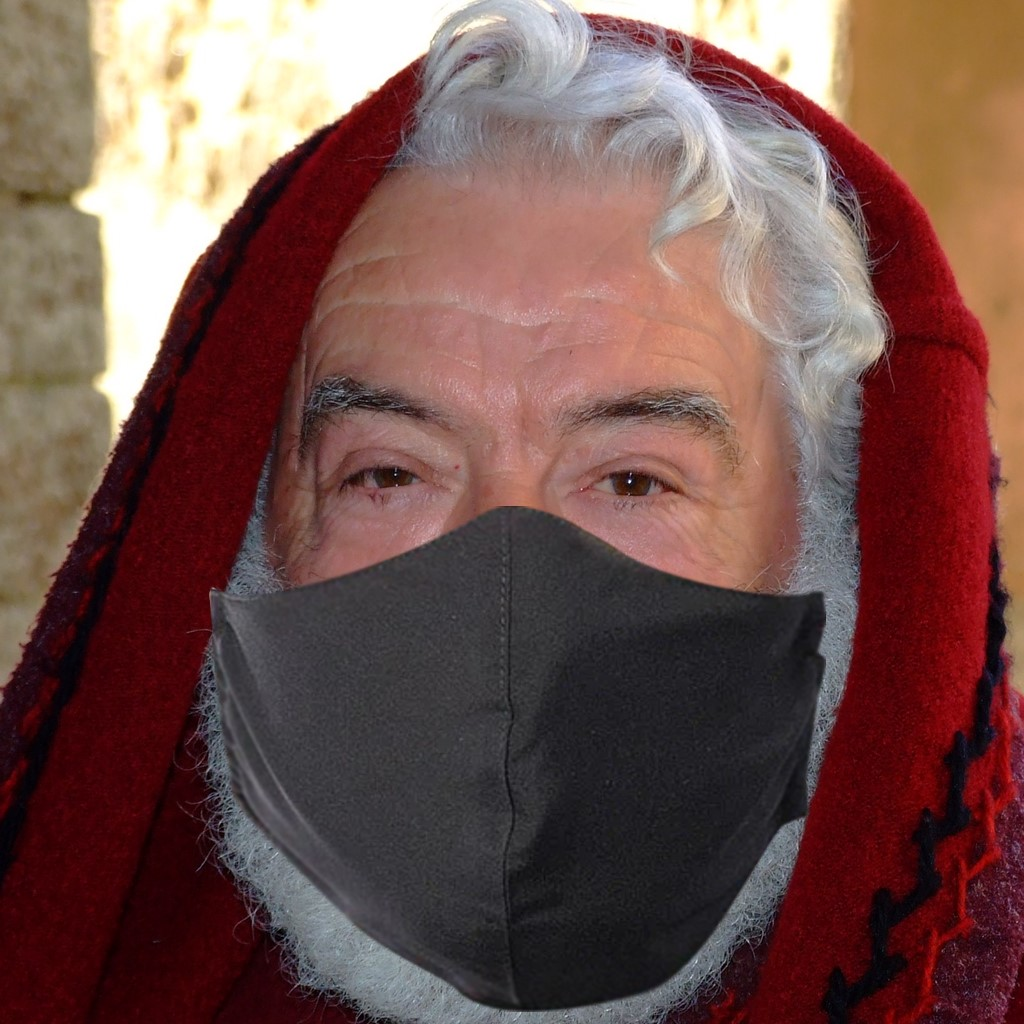con_mascara: (246, 142, 815, 954)
